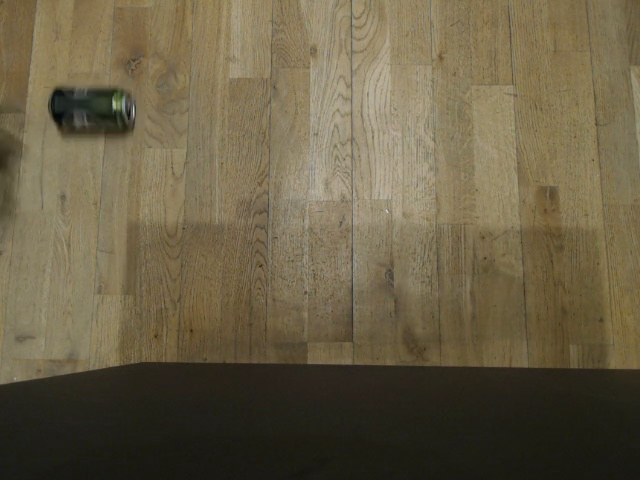beer: (44, 85, 141, 139)
